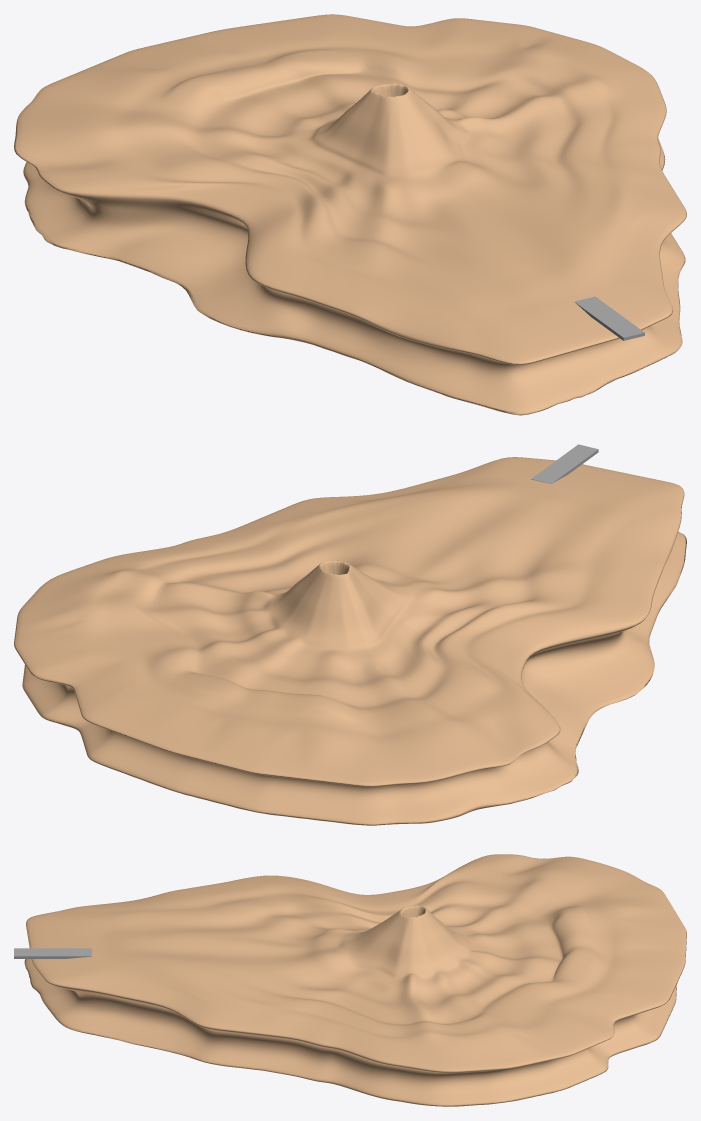
The picture shows the model from 3 angles, top to bottom: view 1: azimuth 30°, elevation 25°; view 2: azimuth 150°, elevation 25°; view 3: azimuth 270°, elevation 25°; orthographic projection. The views are drawn at different scales.
Visible parts, largest first — view 1: pCylinder1, pCube1; view 2: pCylinder1, pCube1; view 3: pCylinder1, pCube1.
Boxes of the visible parts, x1,y1,x2,y2 form: pCylinder1: (14,14,686,415); pCube1: (574,296,644,340); pCylinder1: (14,457,686,825); pCube1: (531,444,598,483); pCylinder1: (24,854,686,1106); pCube1: (14,948,91,958).
Bounding box in the file's own units: 347 × 69.45 × 446.
